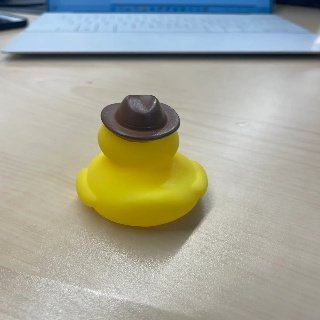duck_specialty: (75, 94, 208, 225), (75, 157, 80, 159)
